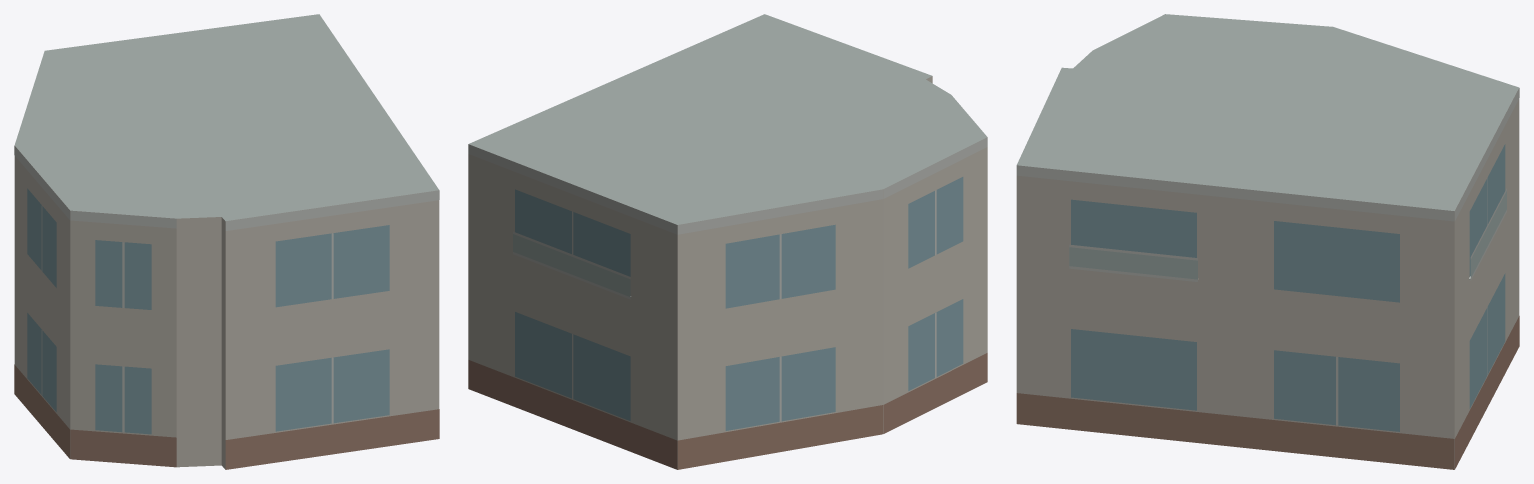
File: survey-upis-32702120.glb
3 renders of one model, left to right at view 1: azimuth 30°, elevation 25°; view 2: azimuth 150°, elevation 25°; view 3: azimuth 270°, elevation 25°, orthographic. The views are drawn at different scales.
Visible parts, largest first — view 1: survey-upis-32702120.tmp; view 2: survey-upis-32702120.tmp; view 3: survey-upis-32702120.tmp.
Boxes of the visible parts, box(x1,y1,x2,y2) form: survey-upis-32702120.tmp: box(14, 14, 439, 469); survey-upis-32702120.tmp: box(468, 14, 987, 469); survey-upis-32702120.tmp: box(1016, 14, 1519, 469).
Size of the model in its own units: 9.98 by 6.1 by 10.76.
